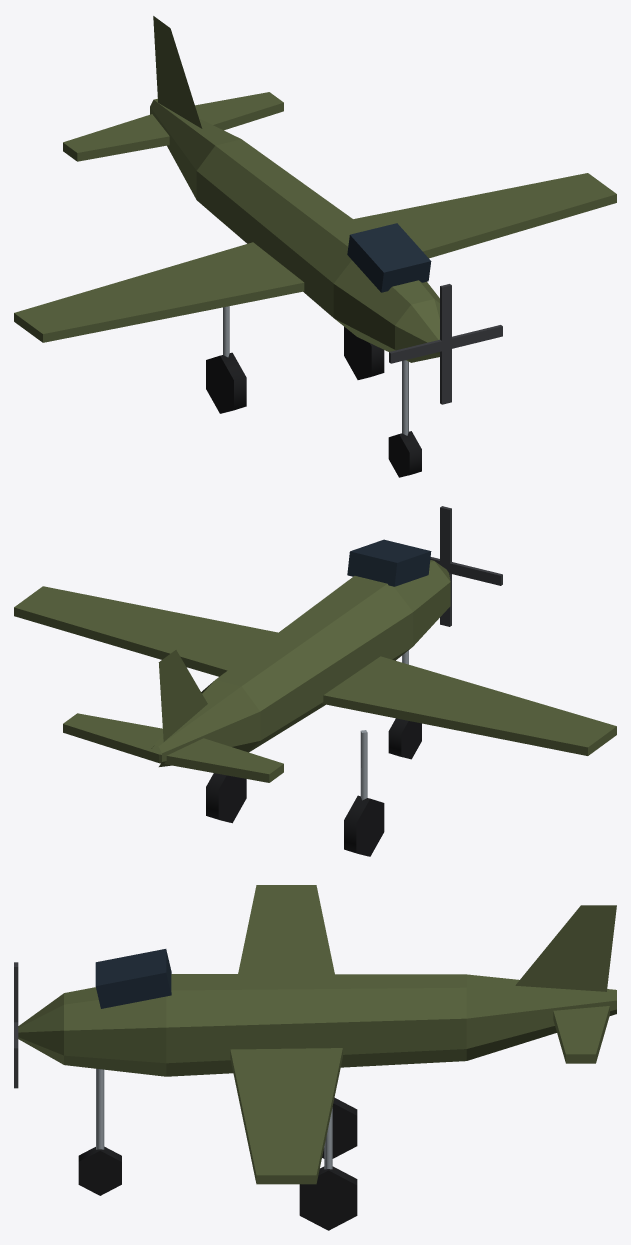
File: veh_air_fighter_a06.glb
3 views of the same model, one above another, from view 1: azimuth 30°, elevation 25°; view 2: azimuth 150°, elevation 25°; view 3: azimuth 270°, elevation 25° (orthographic). The views are drawn at different scales.
Parts seen in each view (by area): view 1: body, propeller_0, gear_1, gear_0, gear_2; view 2: body, gear_1, propeller_0, gear_2, gear_0; view 3: body, gear_2, gear_0, gear_1, propeller_0.
Part boxes in pixels (x1=…): body: x1=14, y1=16, x2=616, y2=362; propeller_0: x1=389, y1=284, x2=502, y2=404; gear_1: x1=206, y1=306, x2=246, y2=413; gear_0: x1=388, y1=360, x2=421, y2=477; gear_2: x1=344, y1=326, x2=384, y2=379; body: x1=14, y1=539, x2=616, y2=782; gear_1: x1=344, y1=730, x2=384, y2=856; propeller_0: x1=430, y1=506, x2=502, y2=626; gear_2: x1=206, y1=773, x2=246, y2=823; gear_0: x1=388, y1=650, x2=421, y2=759; body: x1=18, y1=885, x2=616, y2=1184; gear_2: x1=299, y1=1107, x2=357, y2=1230; gear_0: x1=78, y1=1068, x2=121, y2=1195; gear_1: x1=322, y1=1097, x2=357, y2=1158; propeller_0: x1=14, y1=962, x2=18, y2=1088.
Size of what is drawn, in the model's own units: 8.24 by 3.82 by 7.24.
